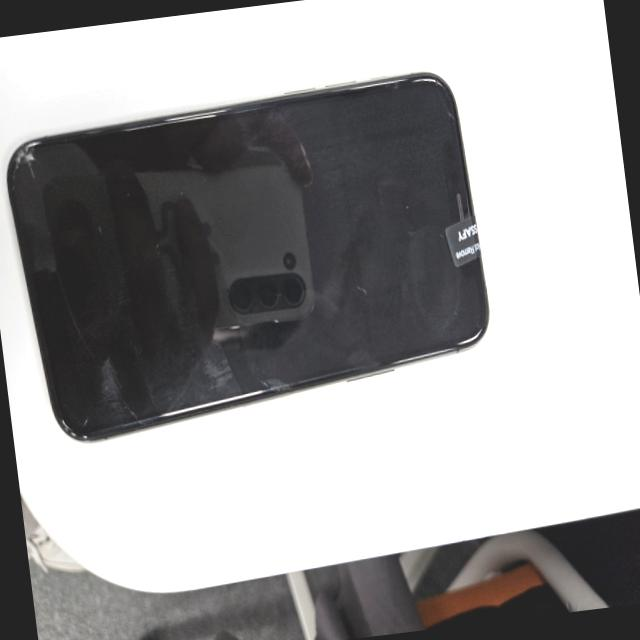phone: (0, 71, 500, 457)
sticker: (441, 216, 482, 268)
